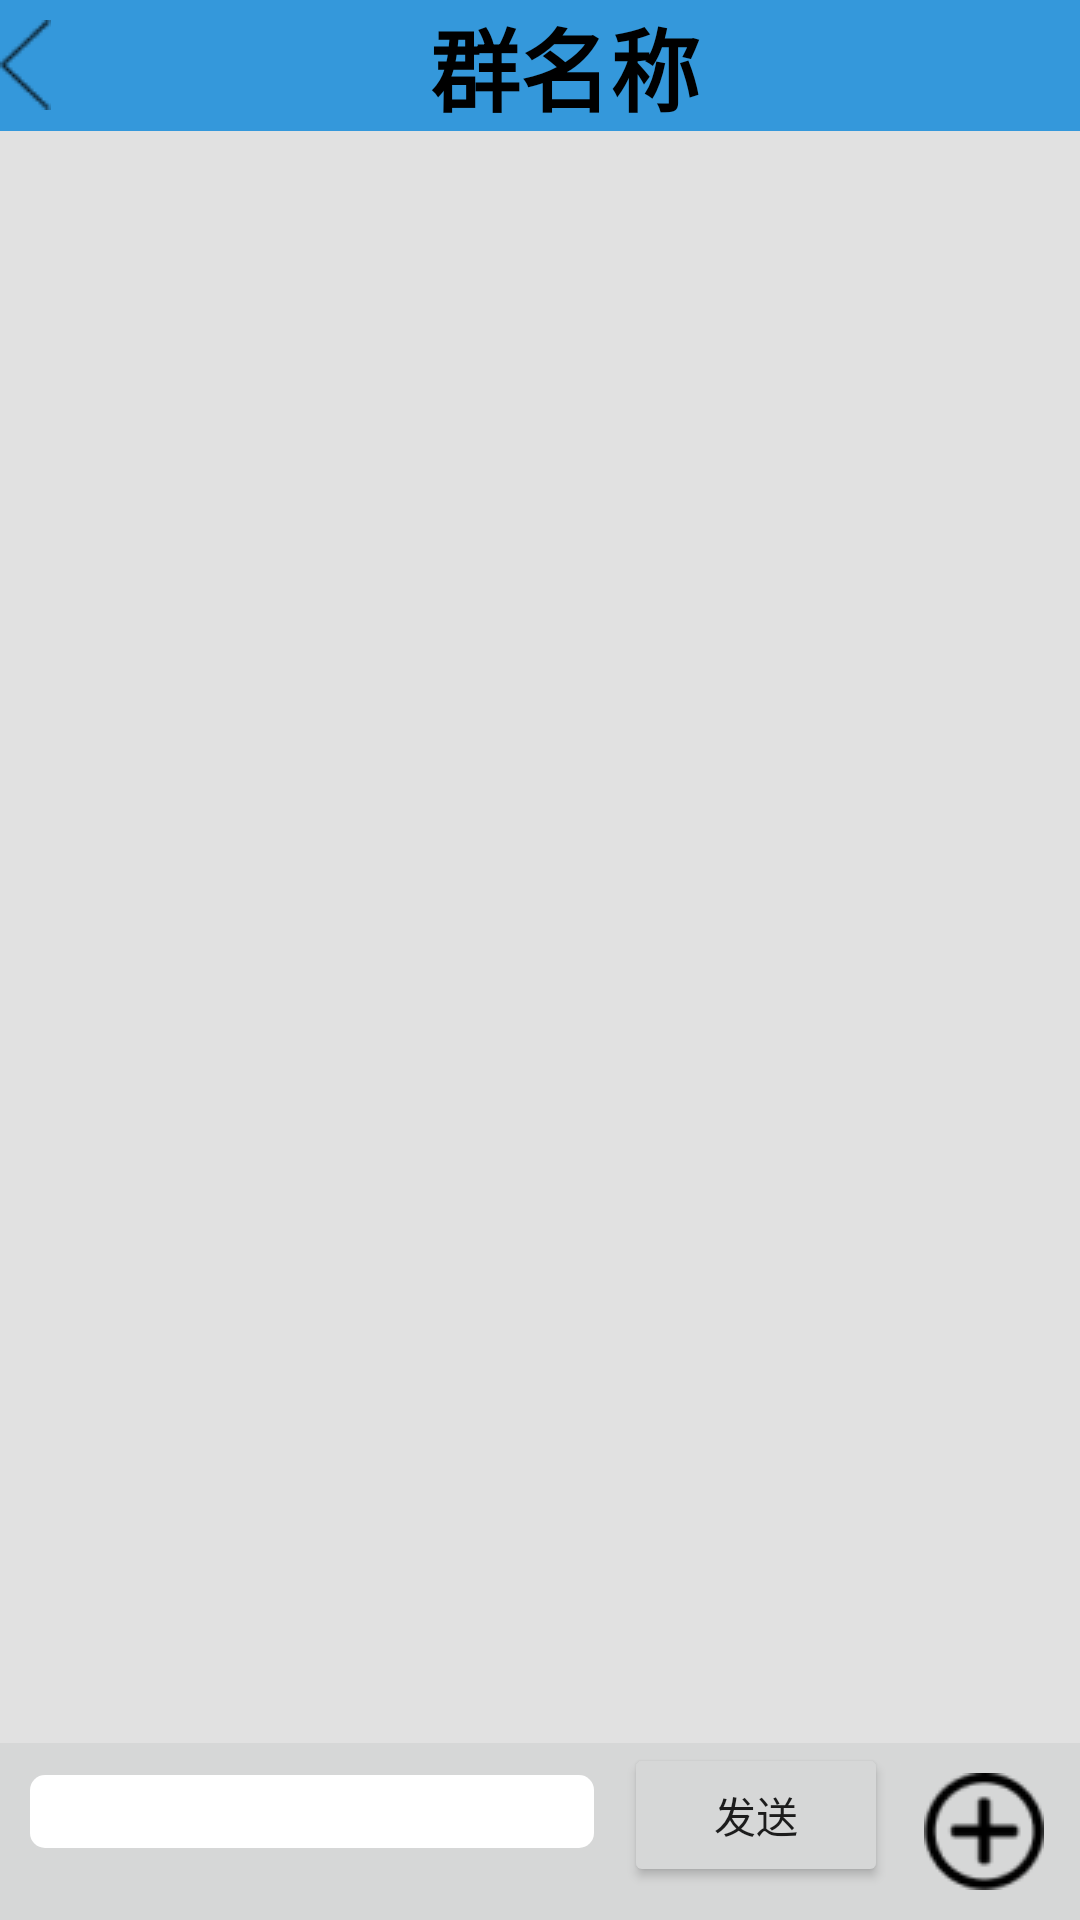

Icons on this 1080px x 1920px Android screen, each with its box as (x1=x1, y1=y1, x2=x2, y2=y2):
back: (x1=0, y1=20, x2=51, y2=110)
plus round: (x1=924, y1=1773, x2=1044, y2=1890)
